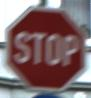Stop sign: (0, 0, 90, 97)
